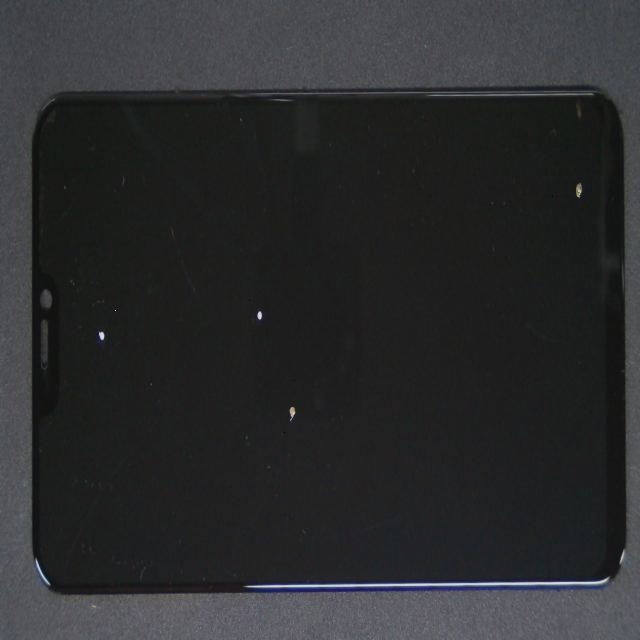stain: (158, 137, 433, 607), (116, 153, 379, 524), (276, 112, 640, 337), (42, 190, 128, 571)
